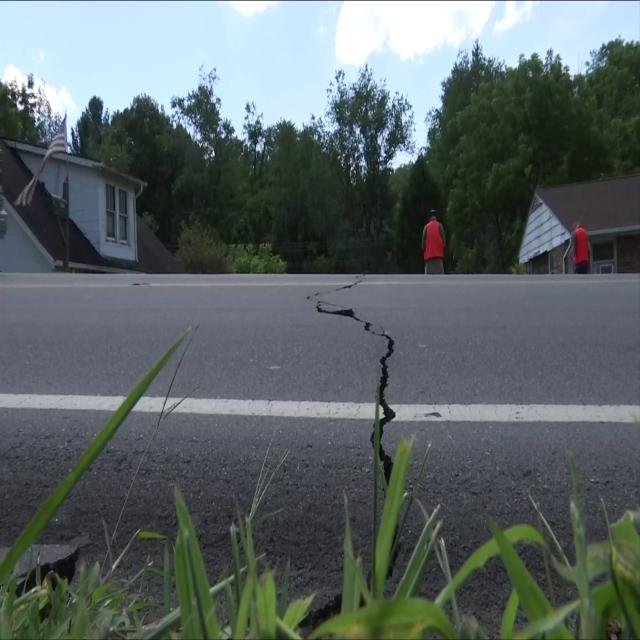Pothole: (291, 233, 447, 640)
